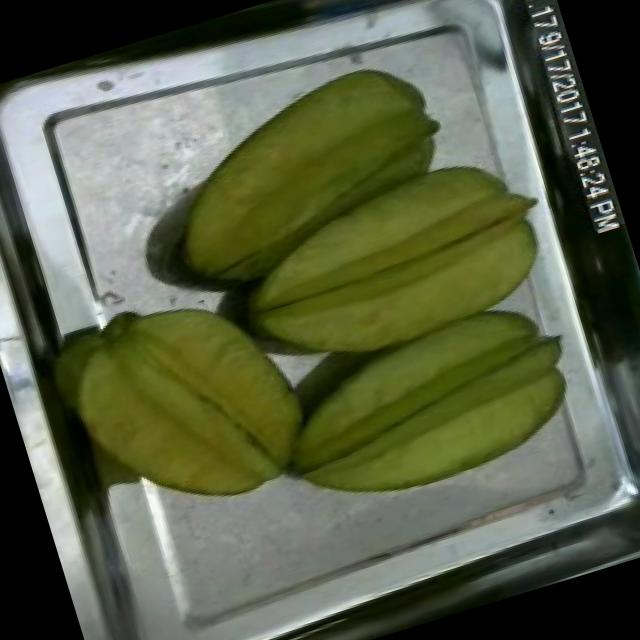fruit: (195, 120, 583, 438), (247, 276, 603, 540), (130, 42, 472, 311), (32, 258, 336, 552)
